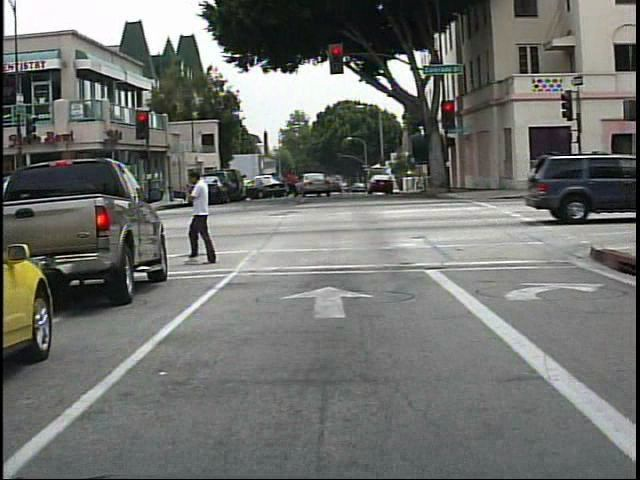person: (178, 168, 231, 267), (283, 163, 304, 207)
